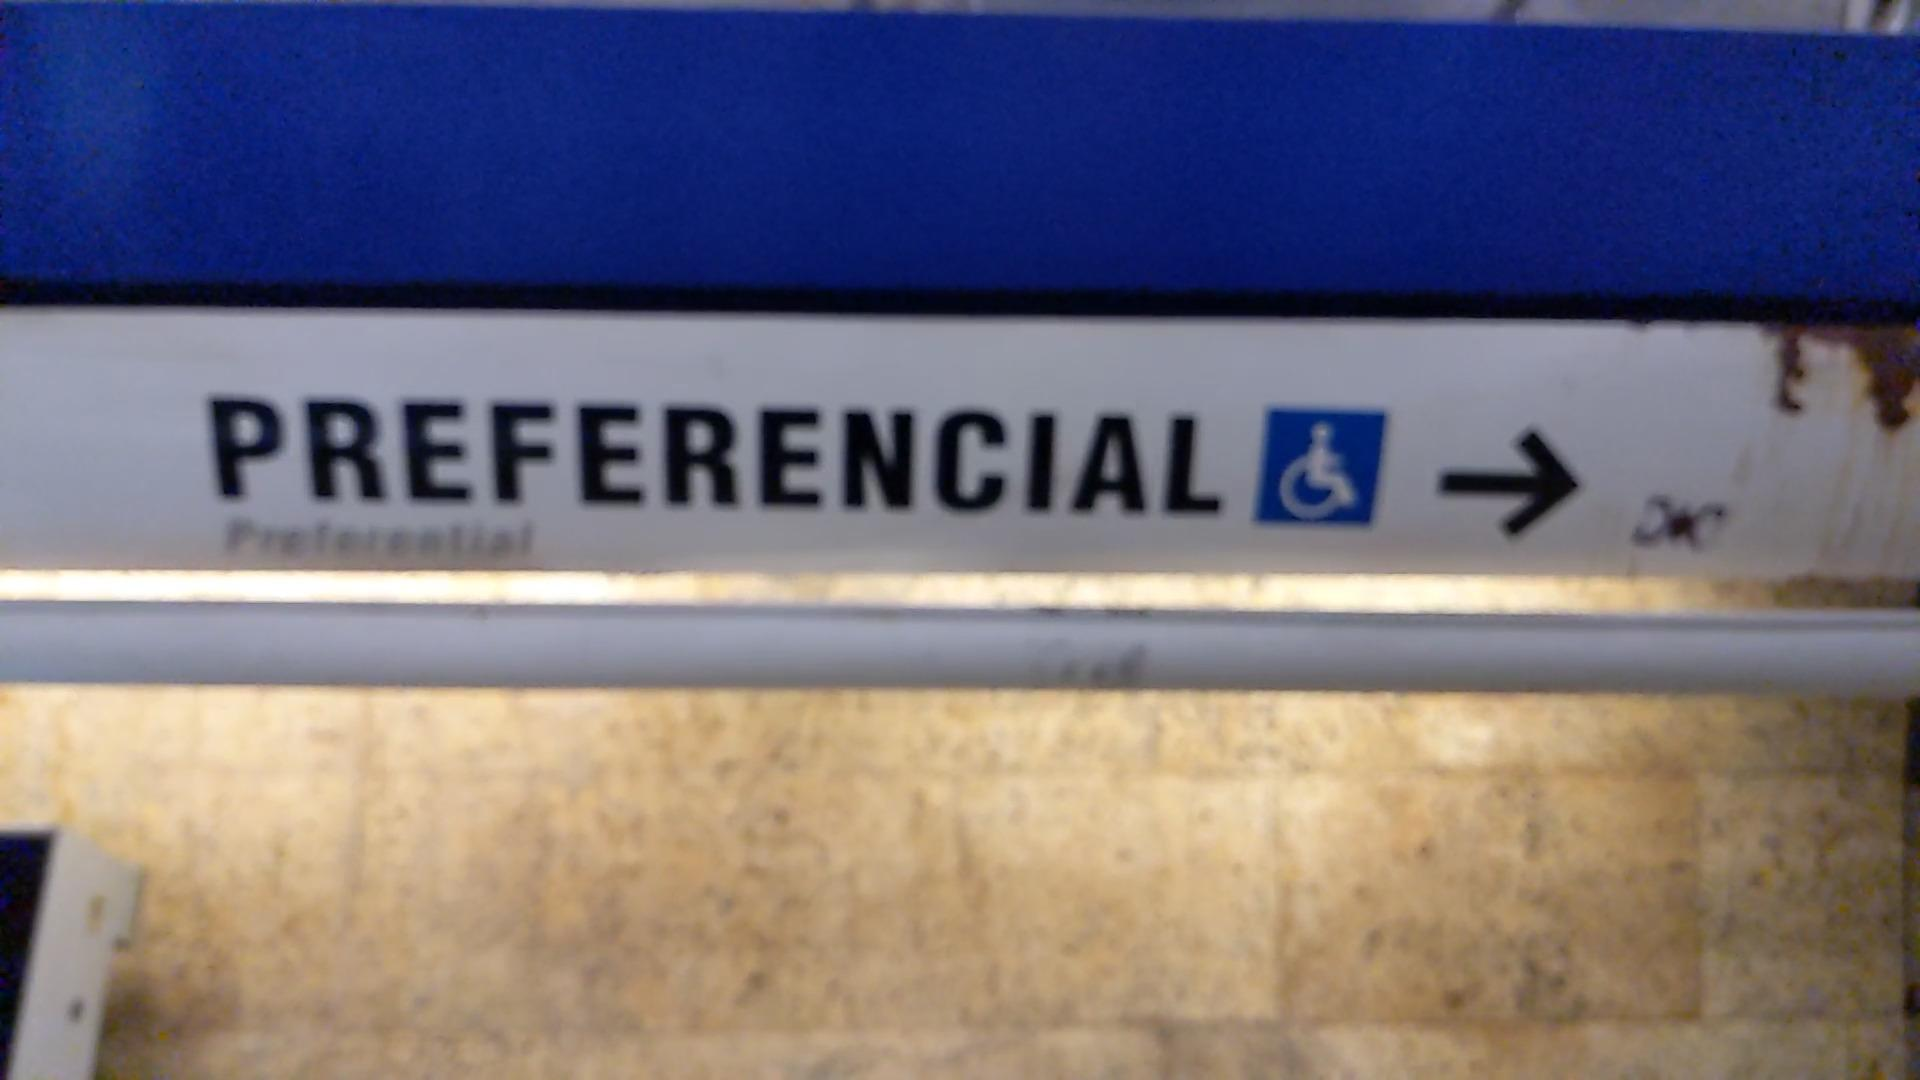handicapped symbol: (1276, 421, 1357, 525)
right arrow: (1431, 423, 1585, 546)
